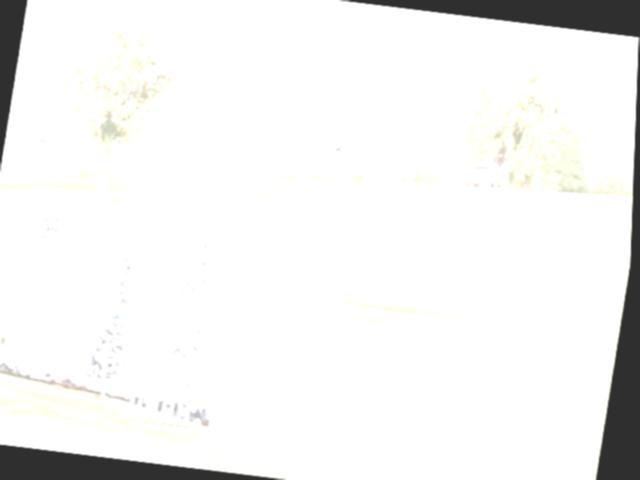iha: (293, 241, 467, 312)
